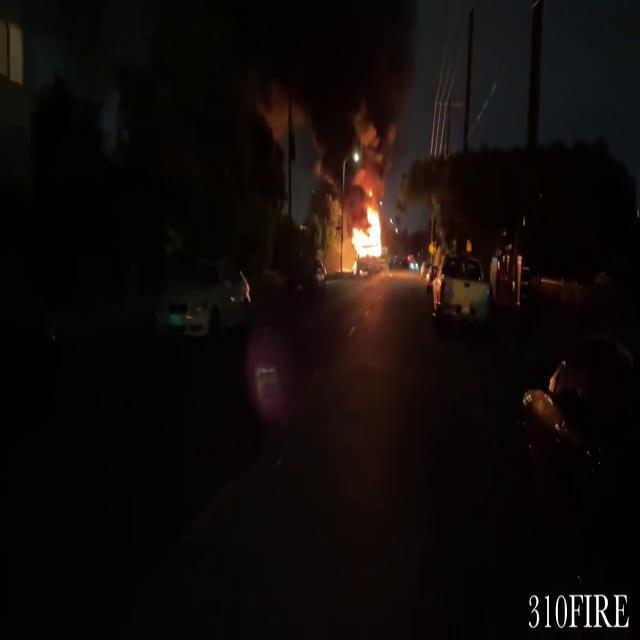Fire: (347, 193, 389, 269)
